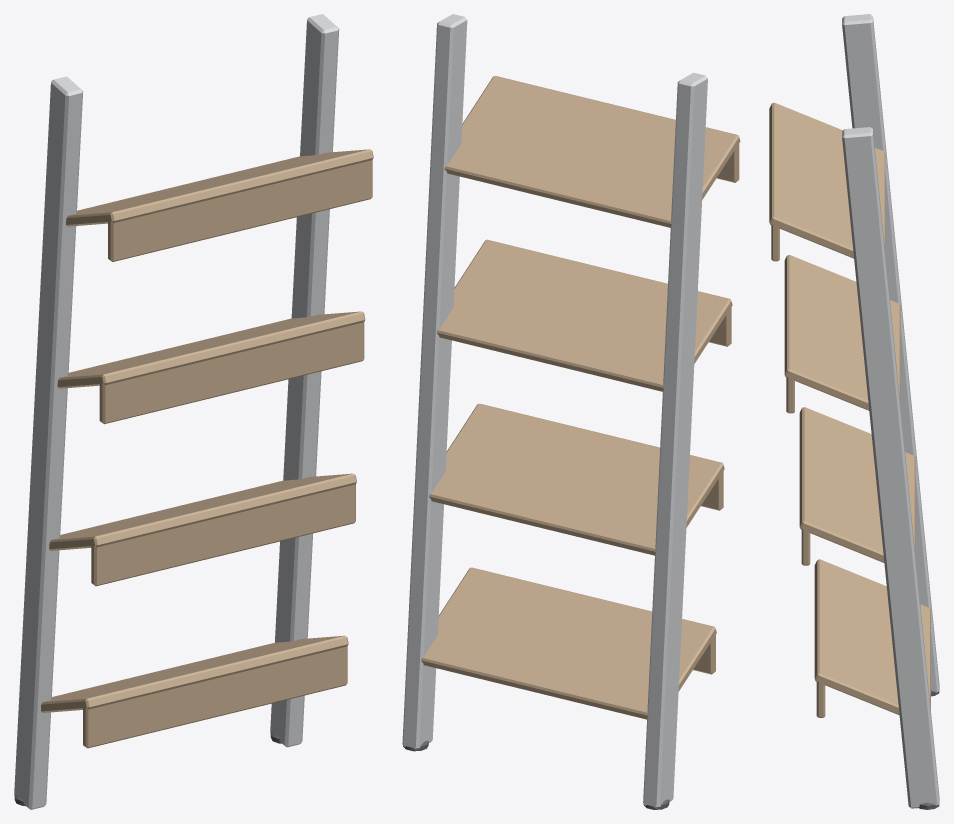
The model's file is office-lobby-and-facilities-magazine-rack-e7ba6895__26148.glb.
The picture shows the model from 3 angles, left to right: view 1: azimuth 30°, elevation 25°; view 2: azimuth 150°, elevation 25°; view 3: azimuth 270°, elevation 25°; orthographic projection. The views are drawn at different scales.
Visible parts, largest first — view 1: magazine-rack; view 2: magazine-rack; view 3: magazine-rack.
Part boxes in pixels (<box>): magazine-rack: <box>14,14,373,809</box>; magazine-rack: <box>402,14,740,809</box>; magazine-rack: <box>769,14,939,809</box>.
Bounding box in the file's own units: 0.47 × 1.2 × 0.2737.
